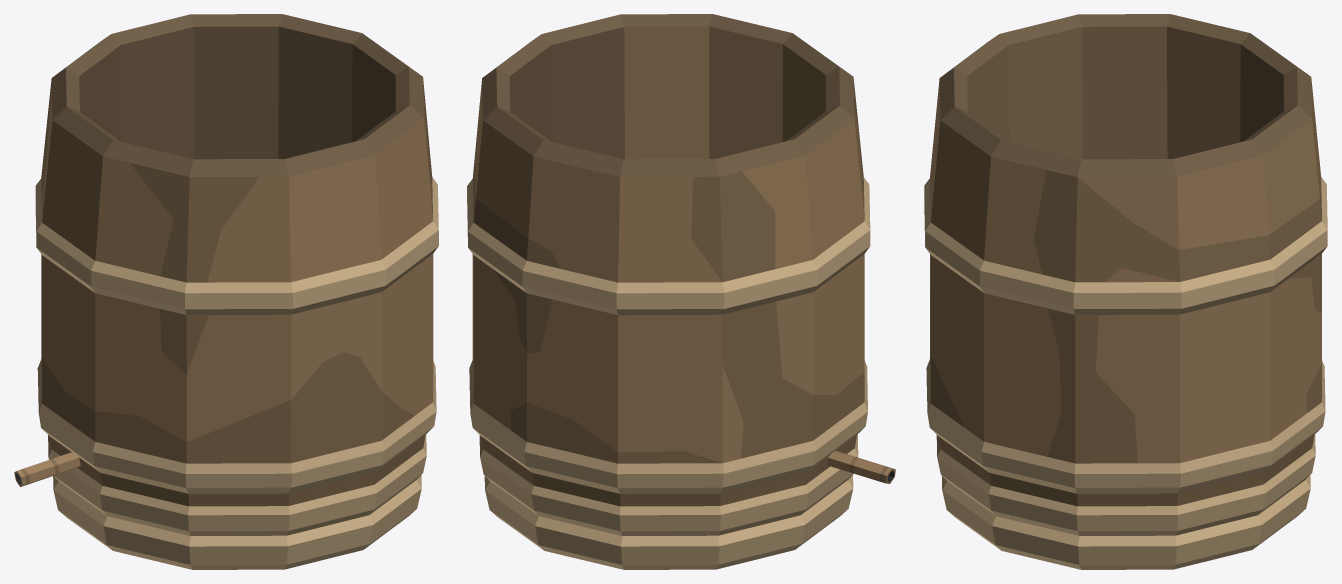
File: samurai_SM_Prop_Vat_01.gltf
3 renders of one model, left to right at view 1: azimuth 30°, elevation 25°; view 2: azimuth 150°, elevation 25°; view 3: azimuth 270°, elevation 25°, orthographic.
Visible parts, largest first — view 1: SM_Prop_Vat_01; view 2: SM_Prop_Vat_01; view 3: SM_Prop_Vat_01.
Part boxes in pixels (x1,y1,x2,y2): SM_Prop_Vat_01: [14, 14, 438, 569]; SM_Prop_Vat_01: [467, 14, 895, 569]; SM_Prop_Vat_01: [924, 14, 1327, 569].
Size of the model in its own units: 1.8 by 1.78 by 1.58.
Materials: 1 (1 with a texture image).
